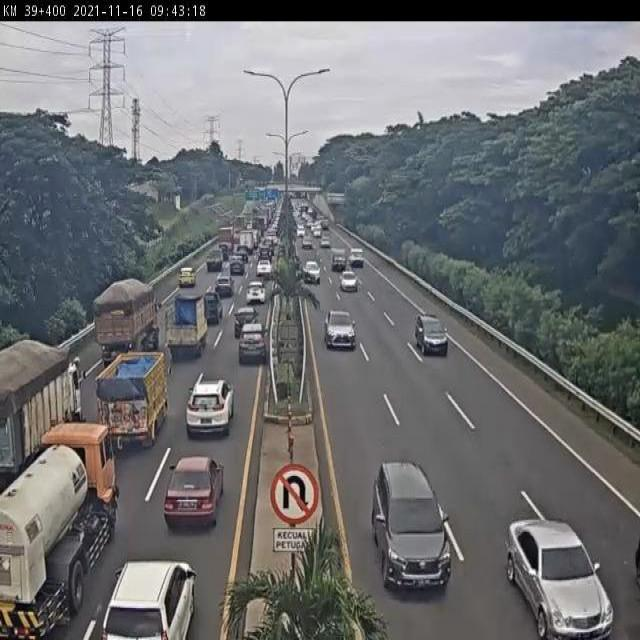car: (504, 517, 616, 640), (370, 460, 451, 595), (103, 560, 199, 639), (167, 460, 216, 531), (189, 373, 233, 443), (237, 320, 269, 368), (414, 313, 449, 356), (323, 311, 356, 349), (197, 292, 223, 323), (235, 307, 259, 337), (302, 260, 321, 285), (339, 271, 358, 293), (246, 282, 266, 302), (215, 276, 234, 297), (179, 267, 196, 288), (229, 254, 245, 274), (256, 260, 272, 277)
small truck: (206, 248, 224, 271)
truck-l-: (0, 336, 86, 480), (96, 284, 155, 356)
truck-m-: (0, 424, 119, 640), (99, 348, 166, 445), (162, 300, 204, 361)
